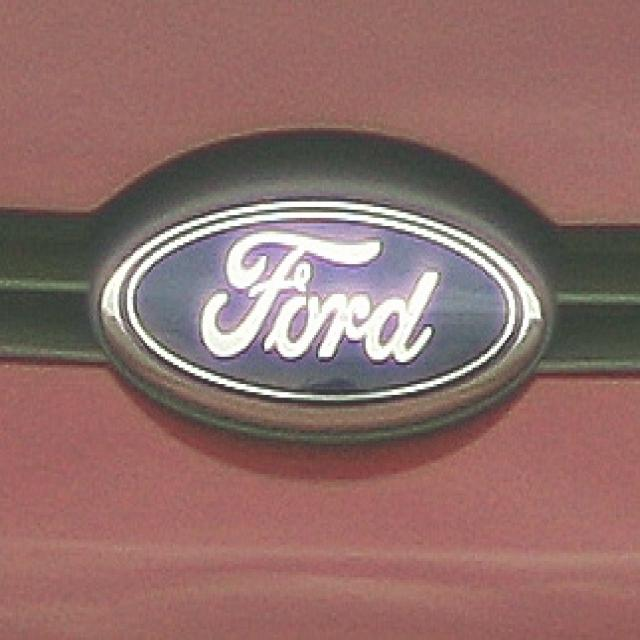ford: (87, 175, 558, 456)
